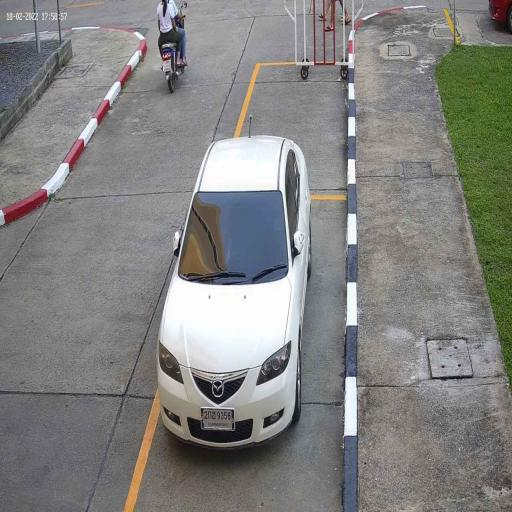car: (155, 133, 316, 454)
motorcycle: (156, 10, 190, 92)
